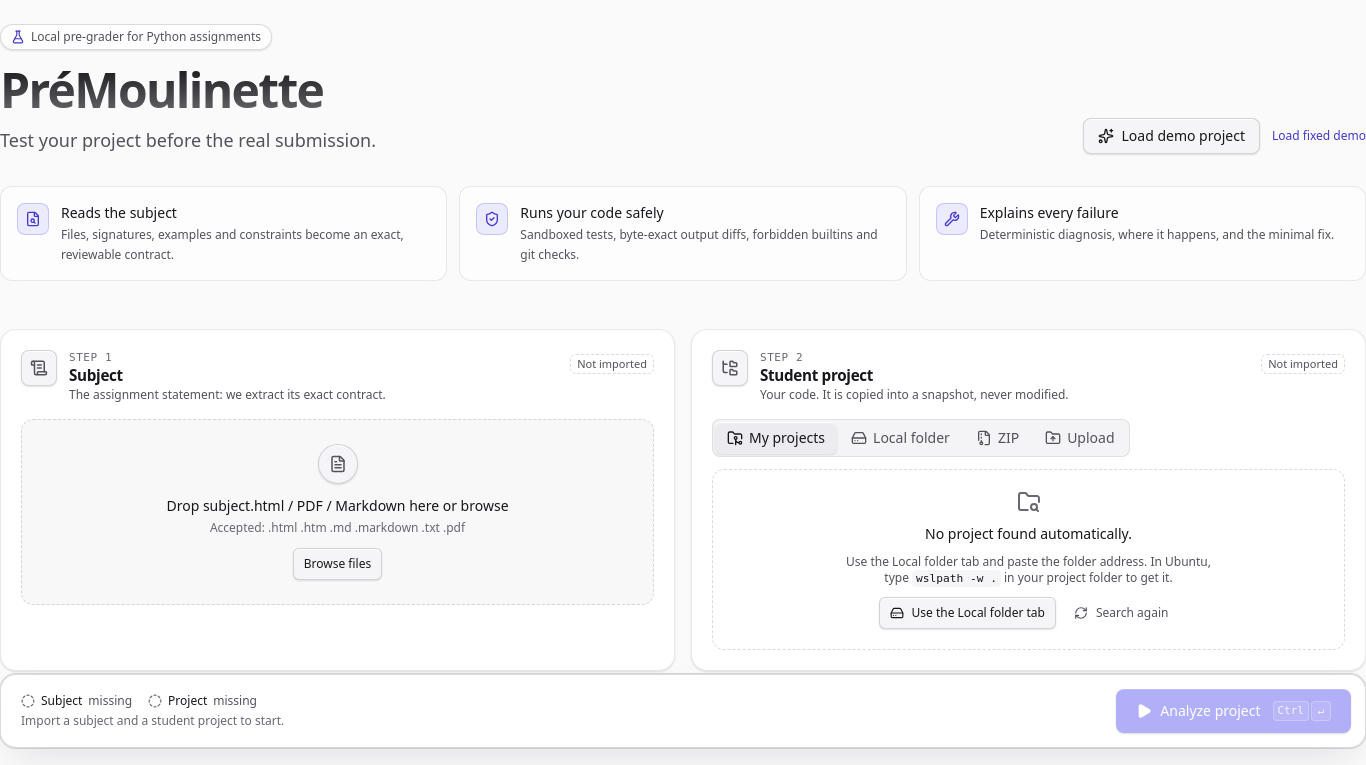
it: My projects tab › switches to the Local folder tab when nothing is found
This screenshot has width=1366, height=765.
Expected: the text "No project found automatically." is shown, [925, 524, 1132, 544]
Expected: the text "wslpath -w ." is shown, [912, 570, 1001, 587]
Step 1. Click the button "Use the Local folder tab" → [967, 613], box [878, 597, 1056, 629]
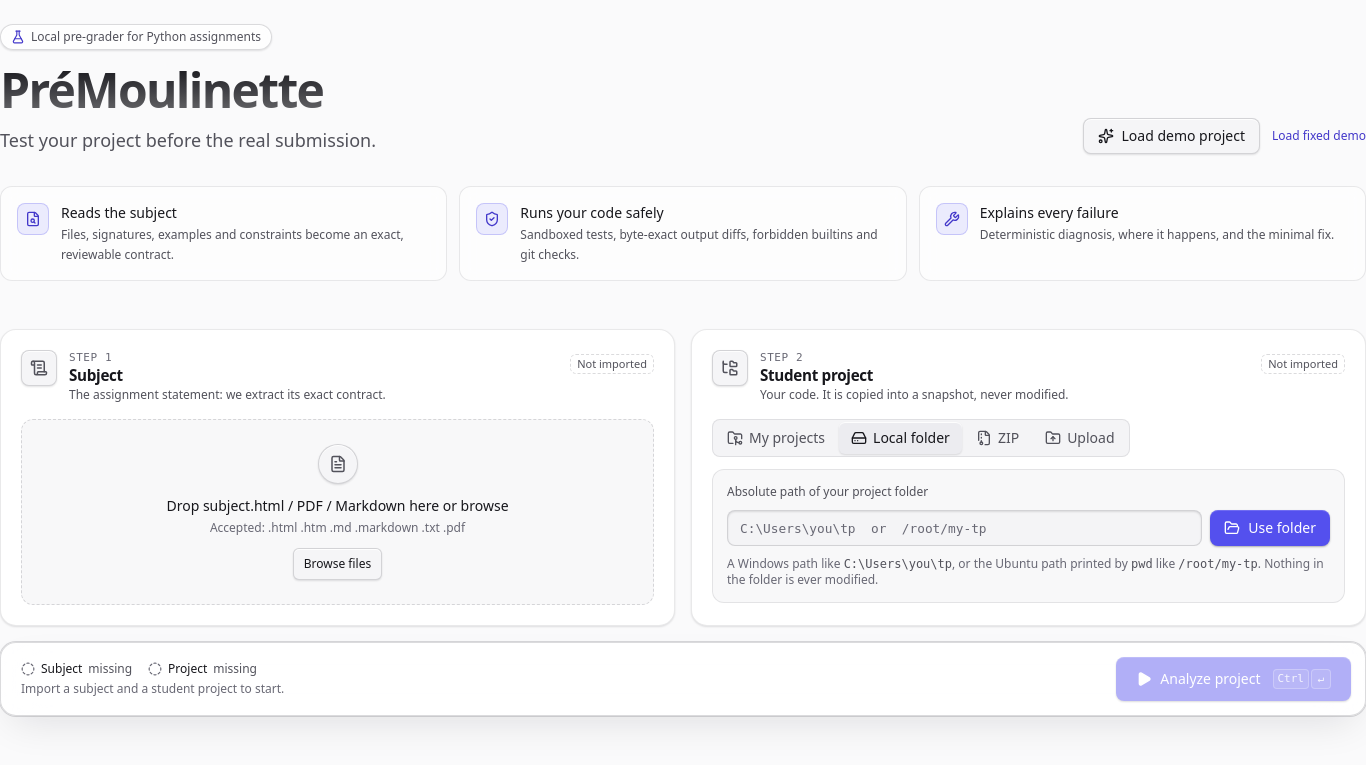
Expected: the field labelled "Absolute path of your project folder" is shown, [727, 510, 1202, 546]
